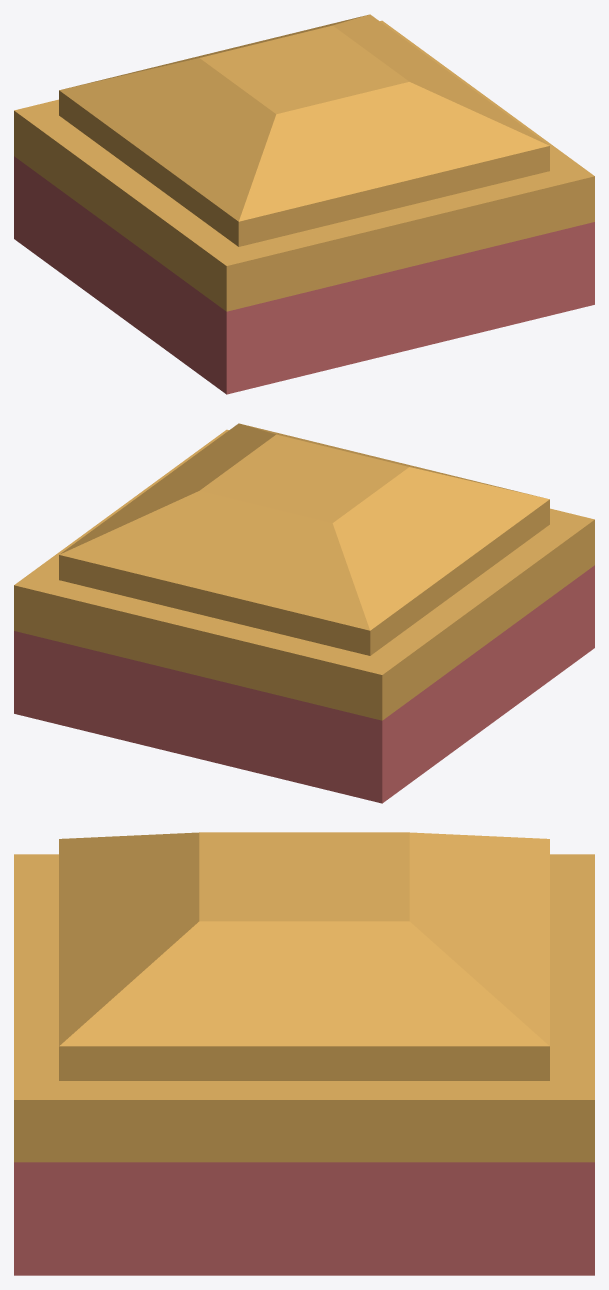
Rendered from SkyScraper_Top_02.fbx.
The picture shows the model from 3 angles, top to bottom: view 1: azimuth 30°, elevation 25°; view 2: azimuth 150°, elevation 25°; view 3: azimuth 270°, elevation 25°; orthographic projection. The views are drawn at different scales.
Parts seen in each view (by area): view 1: SkyScraper1_Top_02; view 2: SkyScraper1_Top_02; view 3: SkyScraper1_Top_02.
Part boxes in pixels (bbox=[...]): SkyScraper1_Top_02: bbox=[14, 14, 594, 394]; SkyScraper1_Top_02: bbox=[14, 423, 594, 803]; SkyScraper1_Top_02: bbox=[14, 832, 594, 1275].
Size of the model in its own units: 96 by 50.3 by 96.
